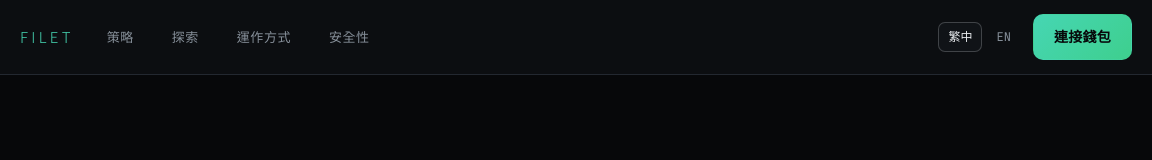
Scenario: Header — CTA「登入」走 wagmi injected＋SIWE，依 dashboard 狀態導向（Task 2） › 錢包拒簽 → 顯示拒簽文案、不導向；console 不得洩漏簽章內容
This screenshot has width=1152, height=160.
Click the button "連接錢包".
click(1082, 37)  # box [1033, 14, 1132, 60]
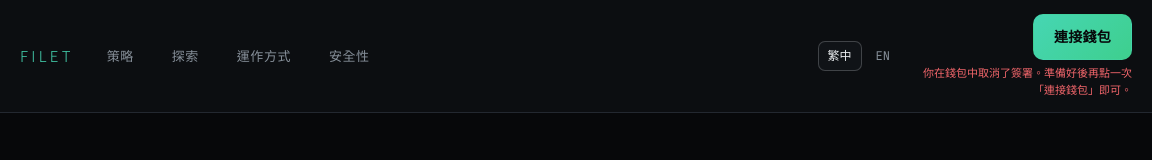
Now the text "你在錢包中取消了簽署。準備好後再點一次「連接錢包」即可。" is shown, box [912, 64, 1132, 98]
